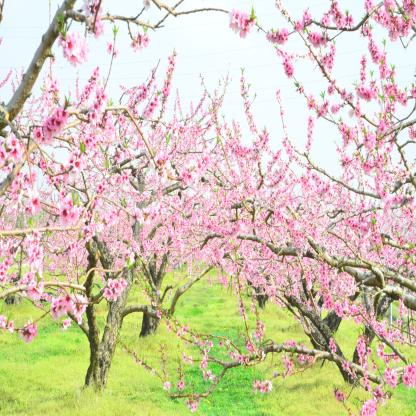Momo: (190, 0, 416, 416), (0, 0, 256, 346)
